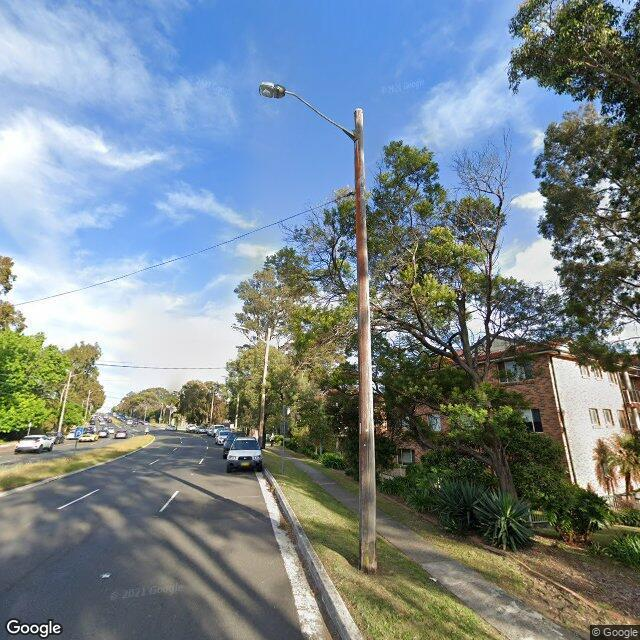streetlight: (258, 82, 359, 143)
timber-pole: (354, 109, 376, 573), (258, 328, 272, 450), (58, 371, 72, 431), (234, 394, 239, 432), (210, 390, 214, 426)
